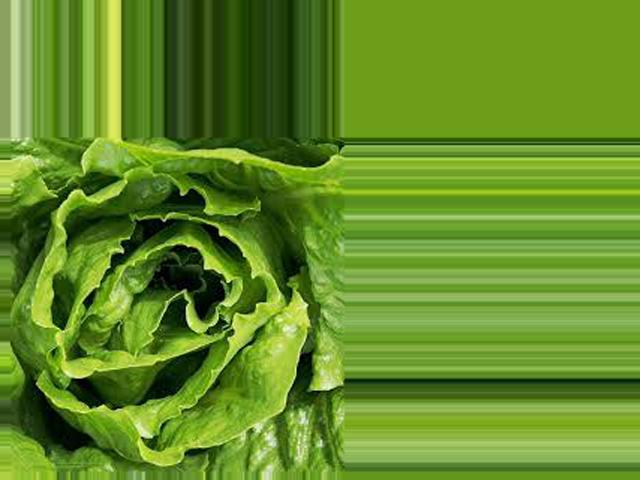lettuce: (13, 140, 345, 466)
